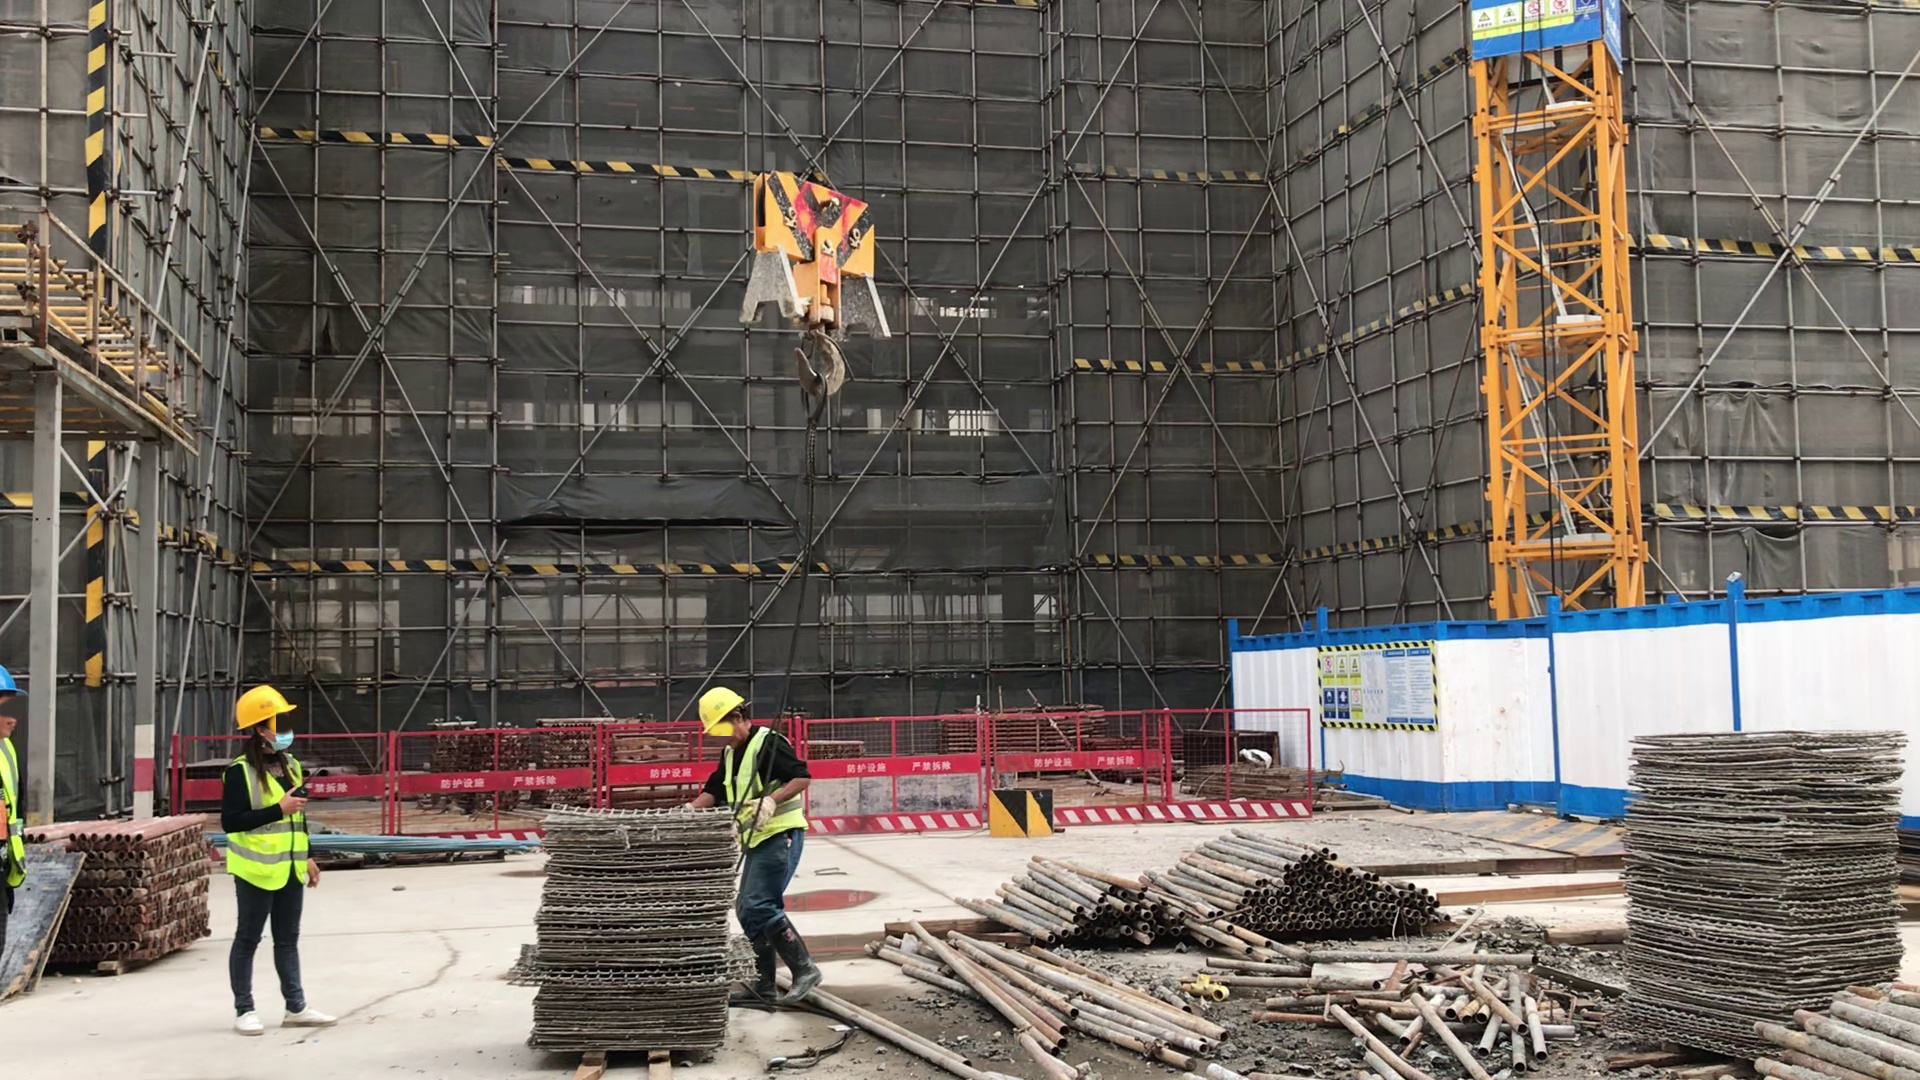fence: (1056, 701, 1313, 819), (317, 727, 534, 828), (852, 712, 977, 830), (545, 717, 677, 794)
helmet: (234, 689, 300, 730), (696, 683, 744, 735), (1, 663, 26, 702)
hook: (733, 167, 899, 400)
person: (215, 685, 345, 1039), (692, 678, 825, 1006), (1, 657, 36, 976)
scaffold: (1181, 819, 1448, 939), (71, 811, 217, 985), (956, 849, 1177, 948), (1743, 978, 1920, 1078)
slogan: (1321, 642, 1437, 728), (1470, 1, 1610, 58)
vest: (221, 753, 311, 893), (718, 735, 812, 852), (1, 737, 25, 886)
